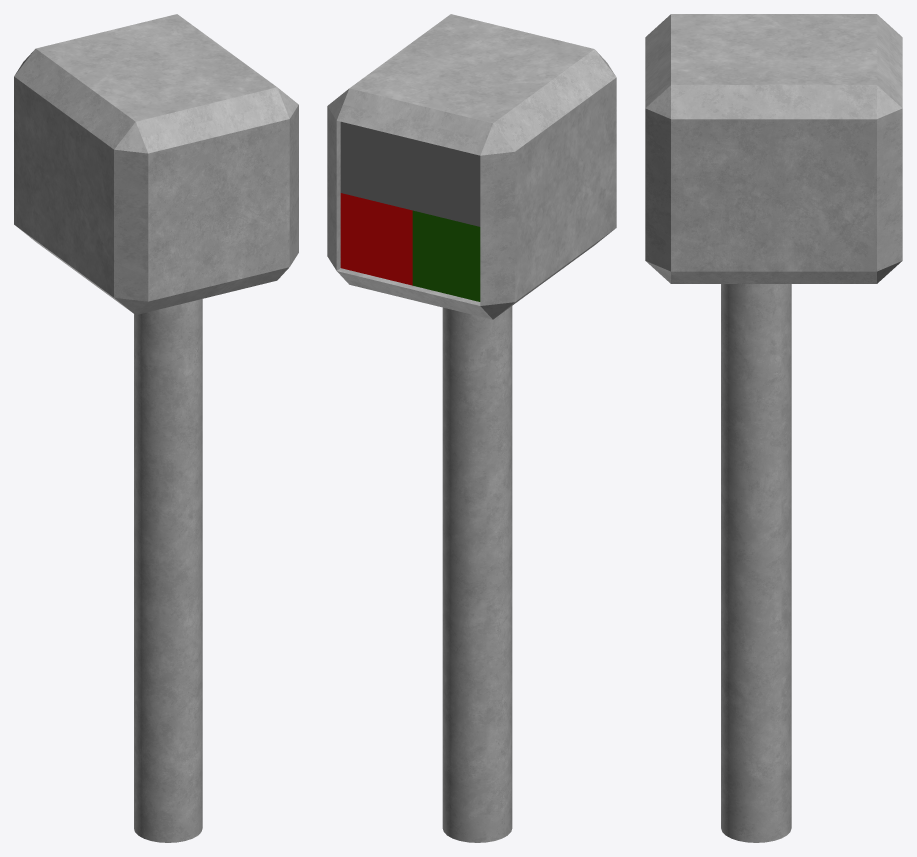
File: checkerTrue.fbx
3 renders of one model, left to right at view 1: azimuth 30°, elevation 25°; view 2: azimuth 150°, elevation 25°; view 3: azimuth 270°, elevation 25°, orthographic. The views are drawn at different scales.
Parts seen in each view (by area): view 1: Box023; view 2: Box023; view 3: Box023.
Boxes of the visible parts, bbox=[...] form: Box023: bbox=[14, 14, 298, 842]; Box023: bbox=[327, 14, 616, 842]; Box023: bbox=[645, 14, 902, 842].
Bounding box in the file's own units: 12.43 × 48.51 × 14.56.
4 materials, 1 textured.
